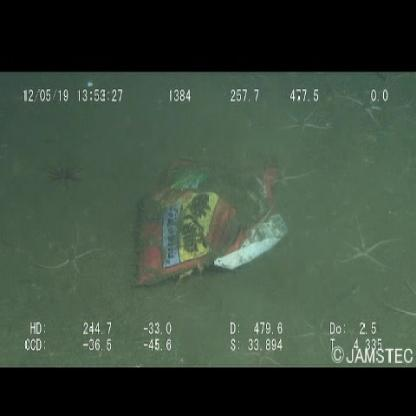Rác: (129, 151, 298, 297)
